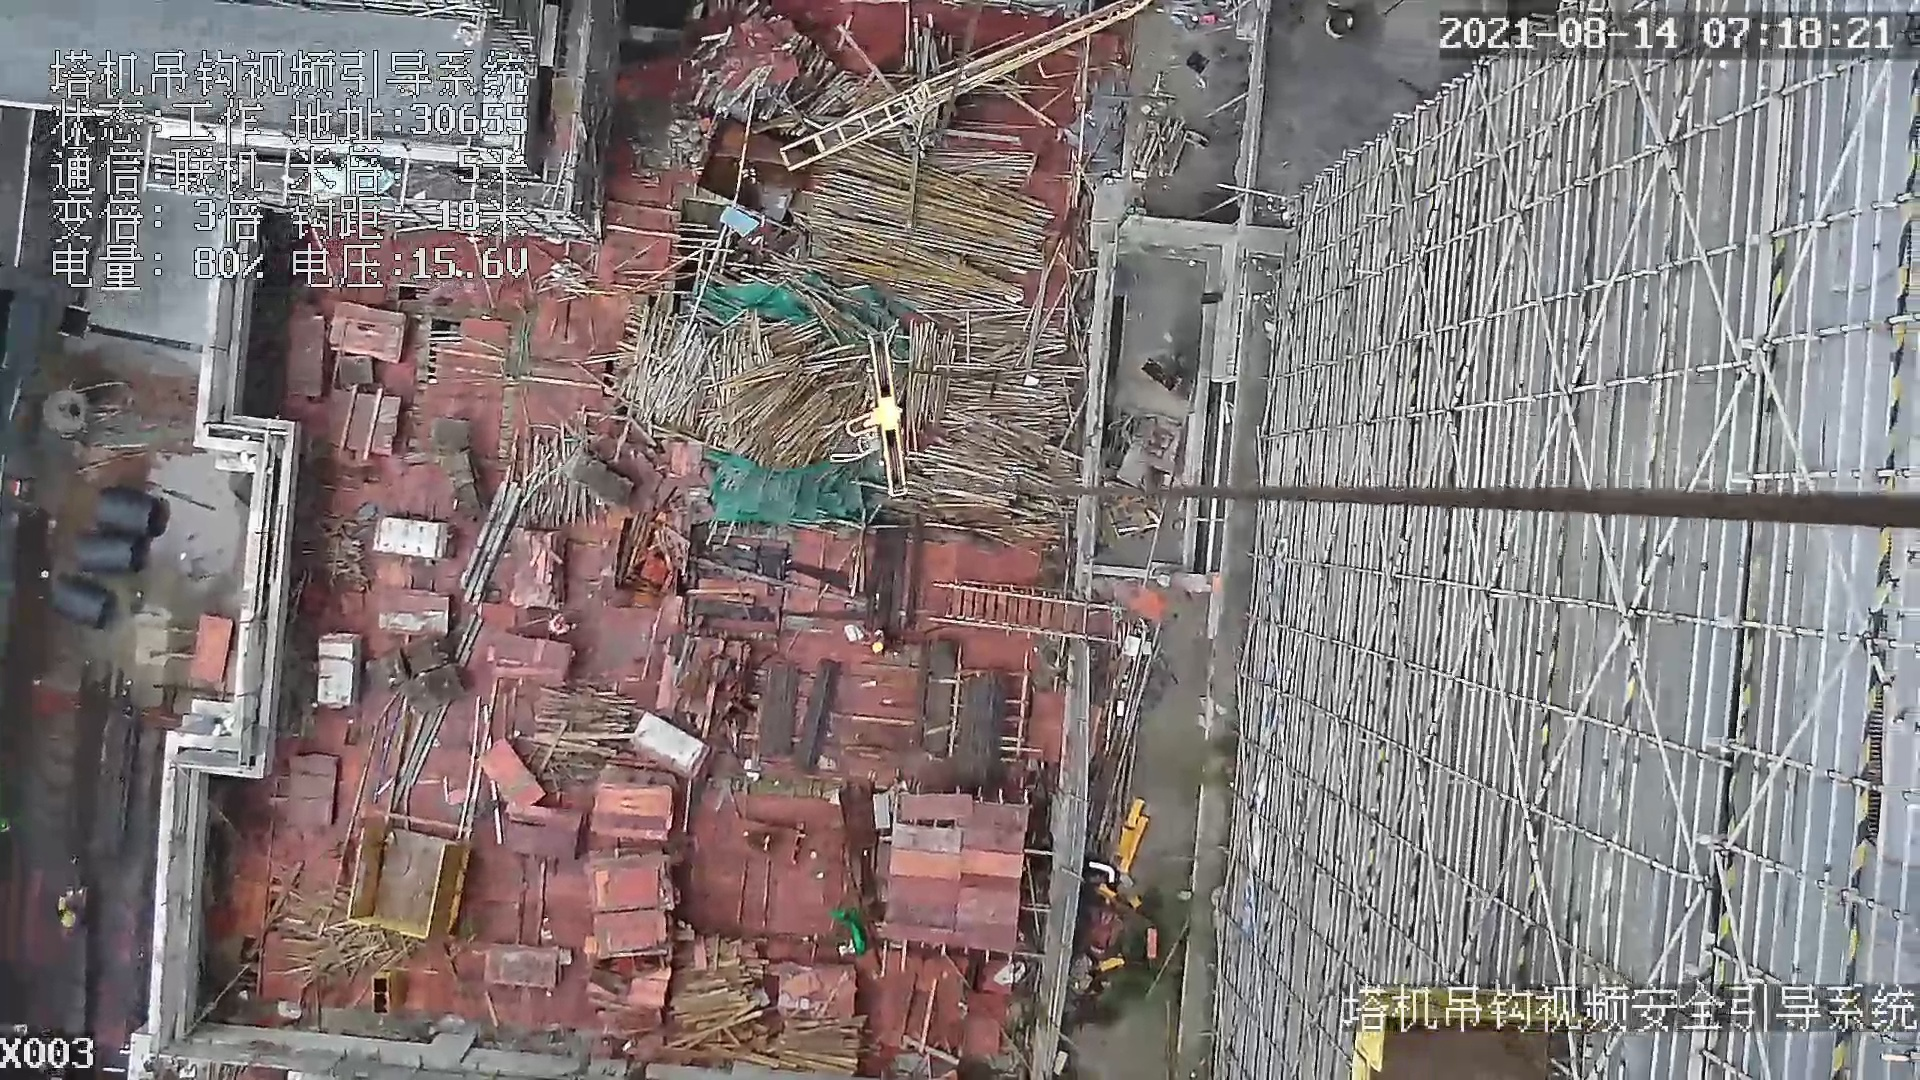hook: (835, 320, 915, 497)
